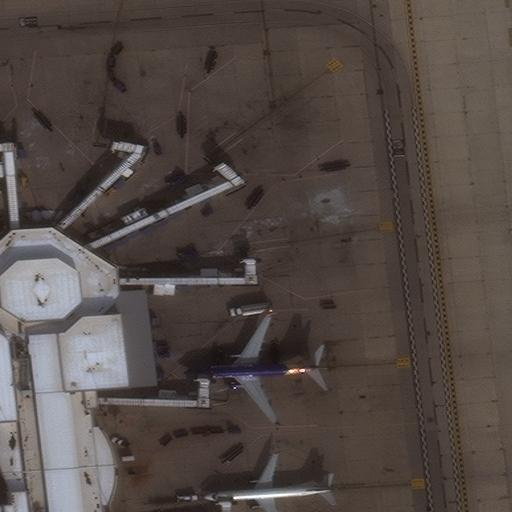Medium Civil Transport: (183, 314, 321, 422), (203, 454, 334, 512)
